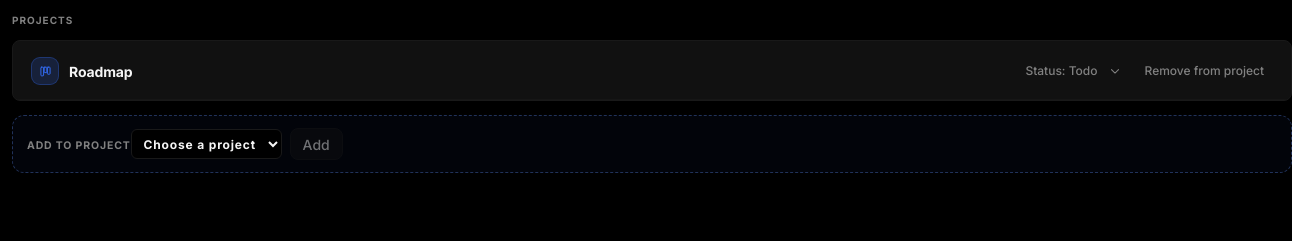
it: ItemProjects › shows each project the item is in, with its fields
Expected: the text "Roadmap" is shown, [69,60,132,82]
Expected: the text "Status: Todo" is shown, [1025,62,1098,80]
Step 1. Click the button "Roadmap Status: Todo" → (101, 71), box [31,57,1122,85]
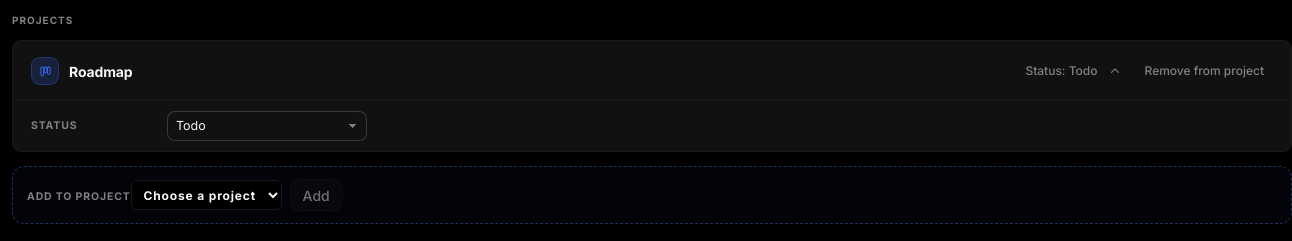
Expected: the dropdown named "Status for orbit-owner/app#12 in Roadmap" shows "Todo", [167,111,367,141]
